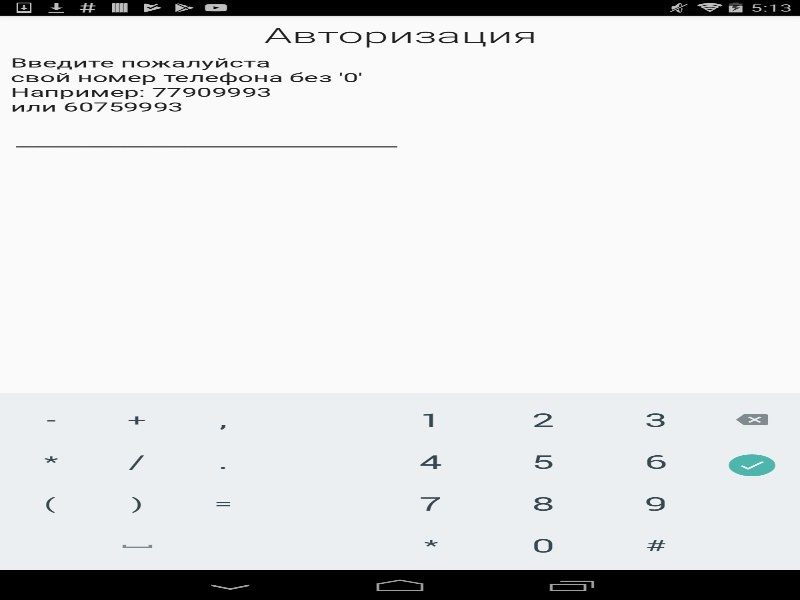Input: (10, 120, 402, 151)
